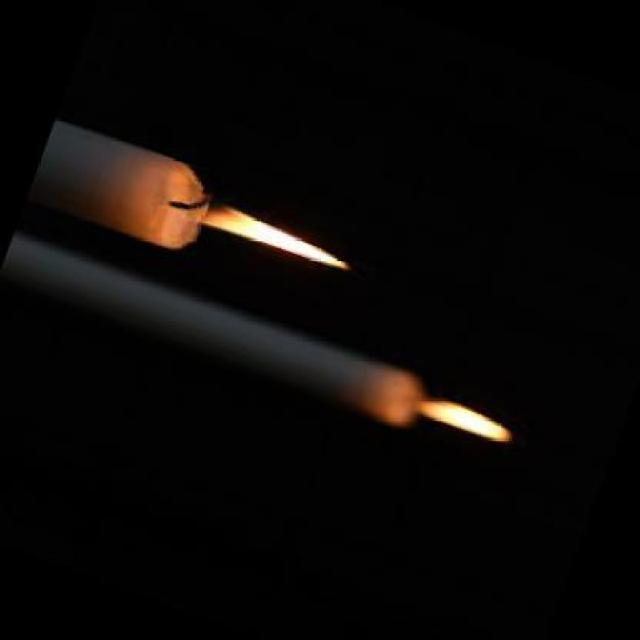Fire: (202, 151, 530, 471), (362, 232, 364, 233)
